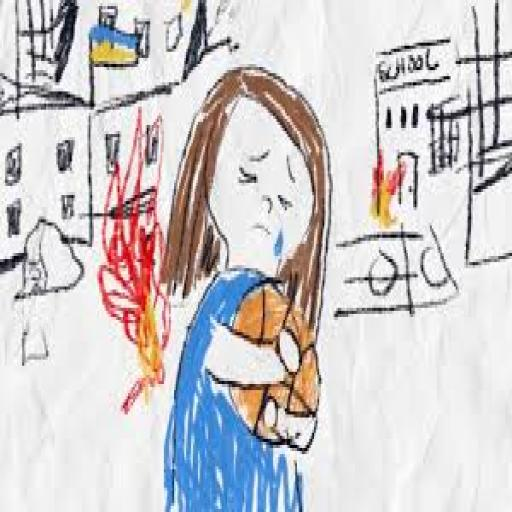person: (156, 61, 334, 509)
